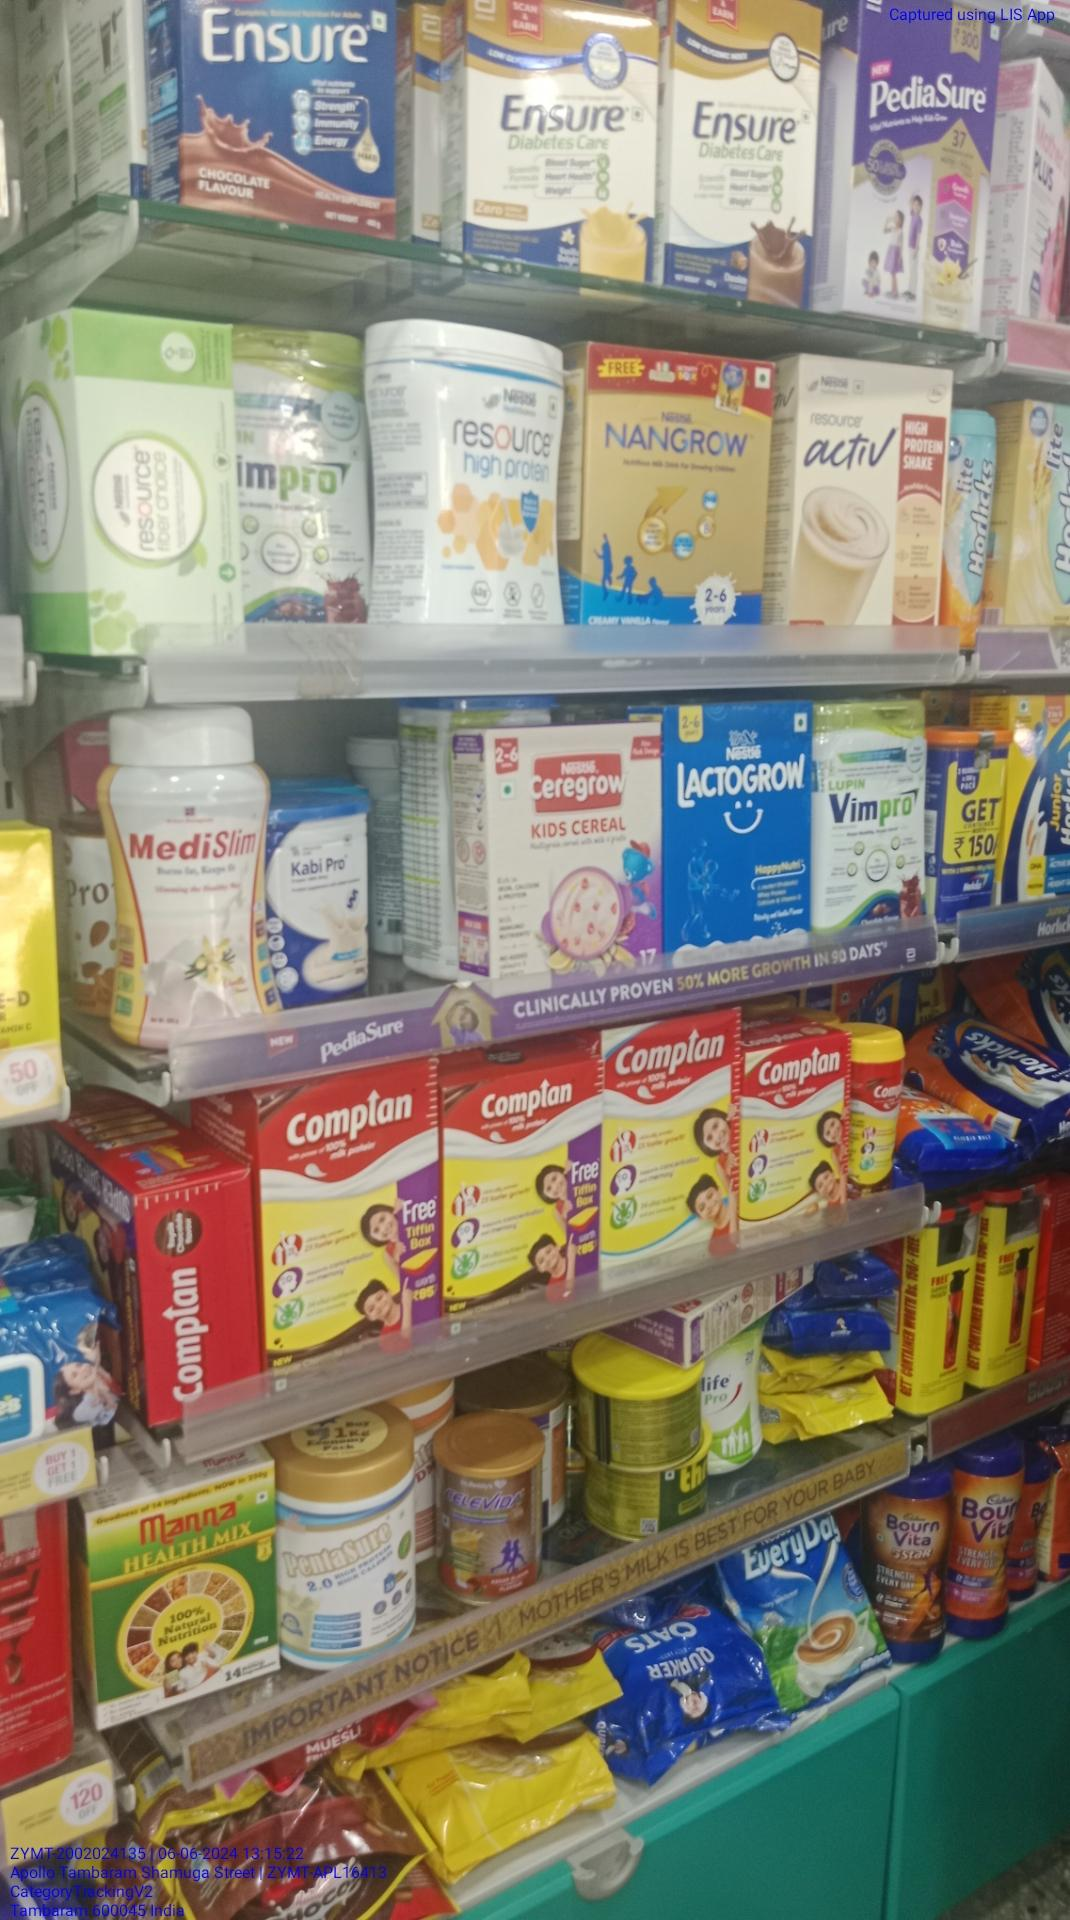BOURN_VITA_200_G_JAR: (953, 1451, 1020, 1641)
COMPLAN_CHOCOLATE_500_GMS_JAR: (854, 1025, 903, 1211)
COMPLAN_CREAMY_CLASSIC_500_G_PACK: (600, 1020, 737, 1282)
COMPLAN_KESAR_BADAM_200_GMS_PACK: (743, 1046, 851, 1245)
PEDIASURE_VANILLA_500_G_PACK: (860, 0, 999, 320)
